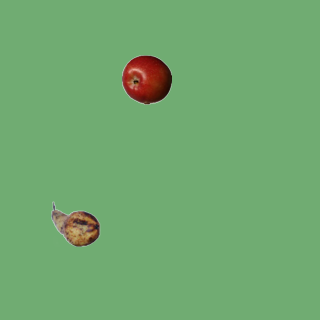Apple Braeburn: (121, 54, 171, 104)
Pear Abate: (50, 199, 100, 249)
